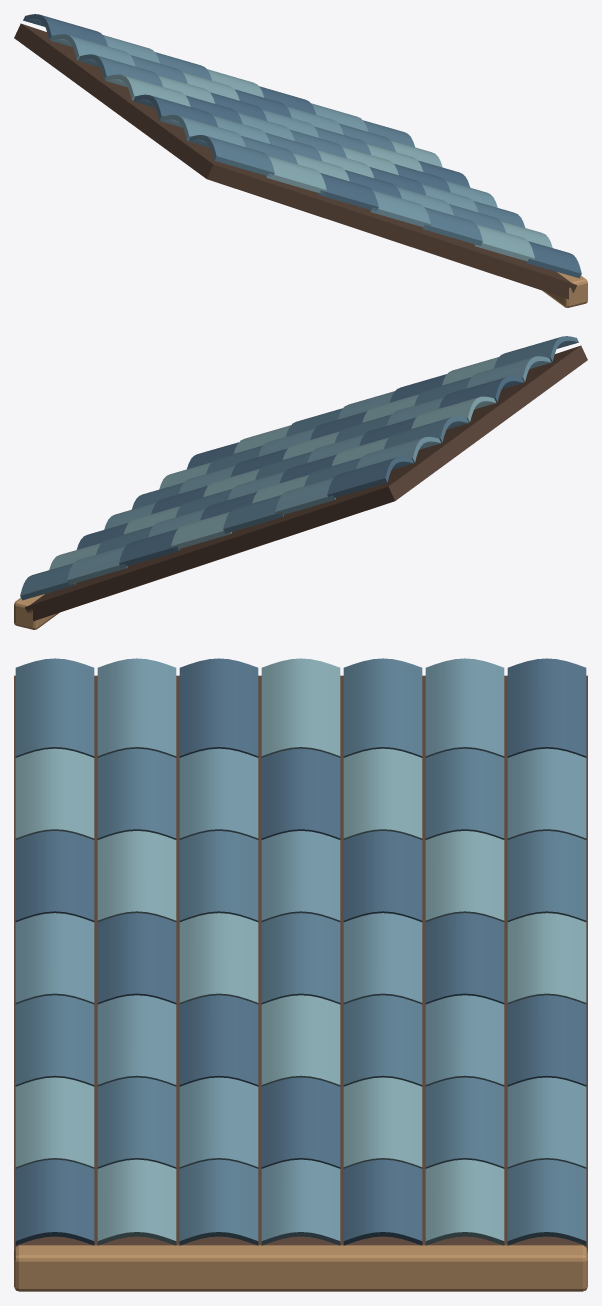
File: roof_slope_slateblue_2m.glb
3 views of the same model, one above another, from view 1: azimuth 30°, elevation 25°; view 2: azimuth 150°, elevation 25°; view 3: azimuth 270°, elevation 25° (orthographic). The views are drawn at different scales.
Visible parts, largest first — view 1: roof_slope_slateblue_2m; view 2: roof_slope_slateblue_2m; view 3: roof_slope_slateblue_2m.
Boxes of the visible parts, x1=… form: roof_slope_slateblue_2m: x1=14, y1=14, x2=587, y2=307; roof_slope_slateblue_2m: x1=14, y1=336, x2=587, y2=629; roof_slope_slateblue_2m: x1=14, y1=658, x2=587, y2=1291.
Bounding box in the file's own units: 2.29 × 1.41 × 2.
